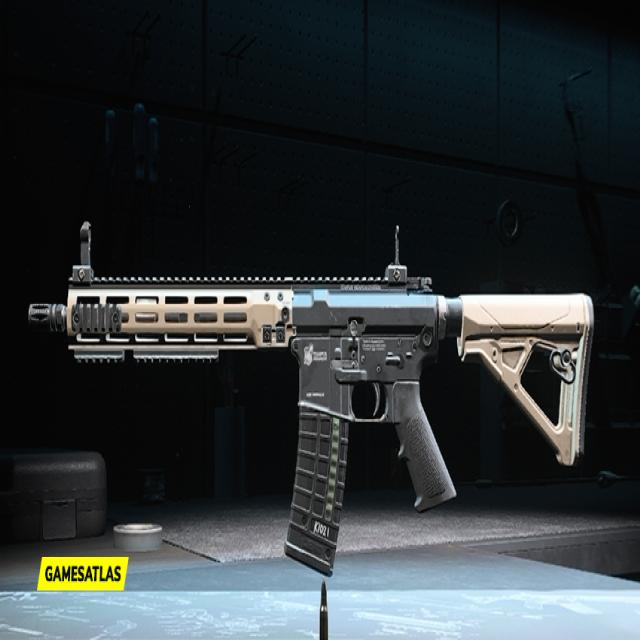Rifle: (29, 224, 596, 581)
